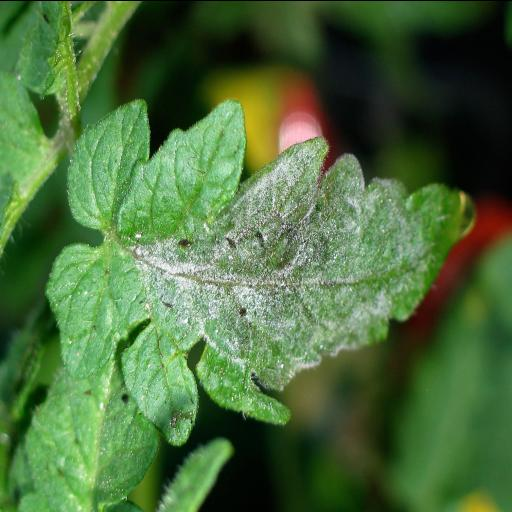disease_tomato: (45, 102, 481, 442)
